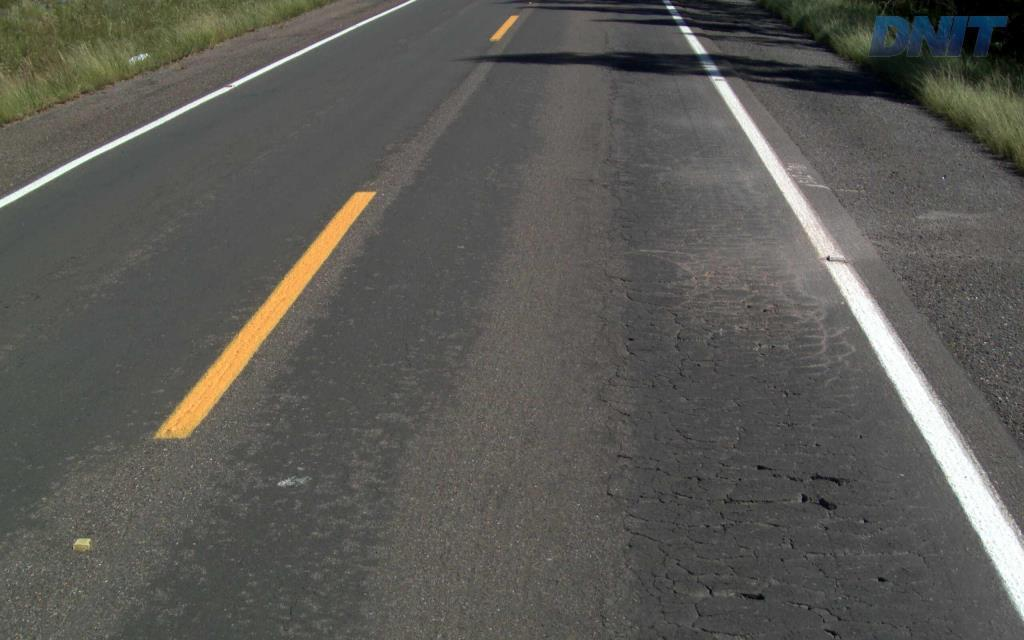crack: (801, 490, 844, 518)
